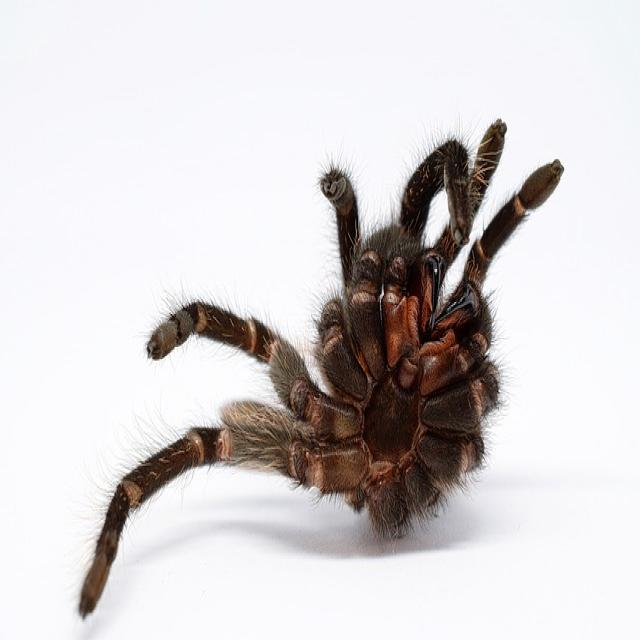spyder: (80, 124, 562, 613)
